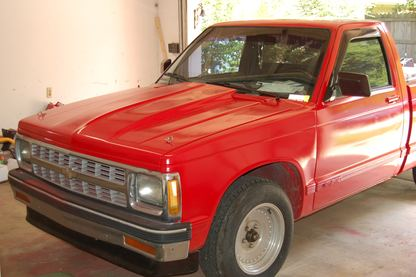truck: (7, 20, 404, 277)
